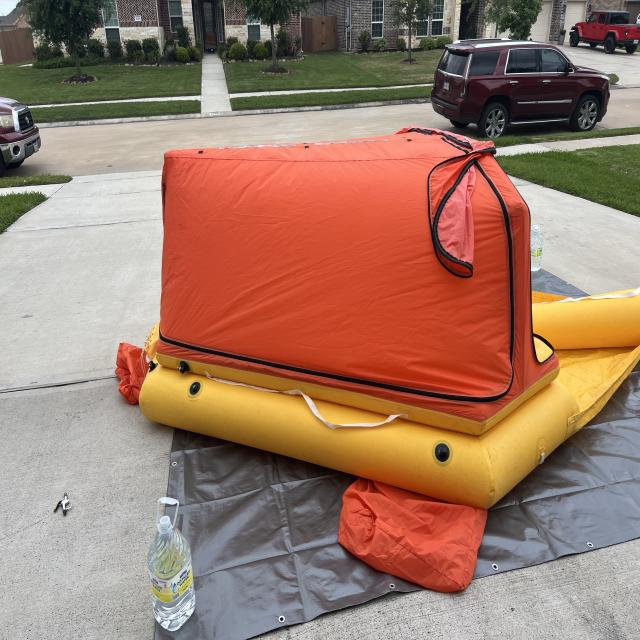Multi-person_life_raft: (114, 126, 639, 594)
